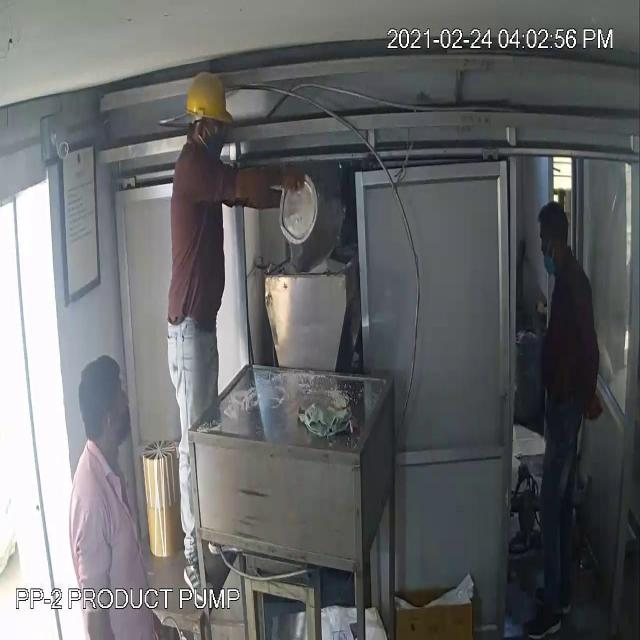hat: (184, 69, 237, 138)
